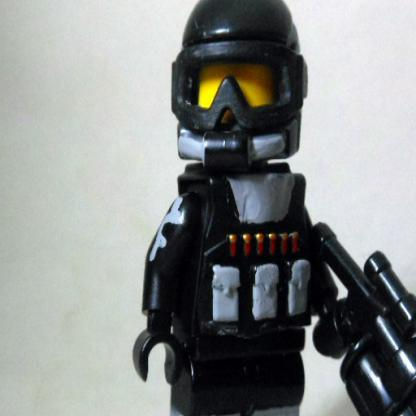gun: (310, 229, 416, 415)
